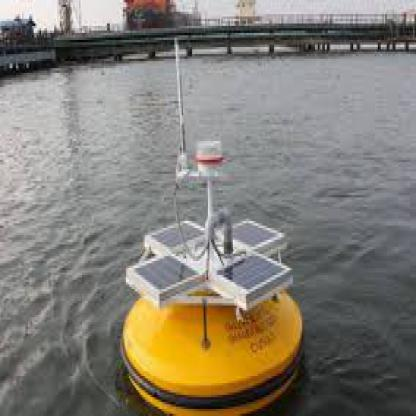buoy: (114, 120, 312, 414)
